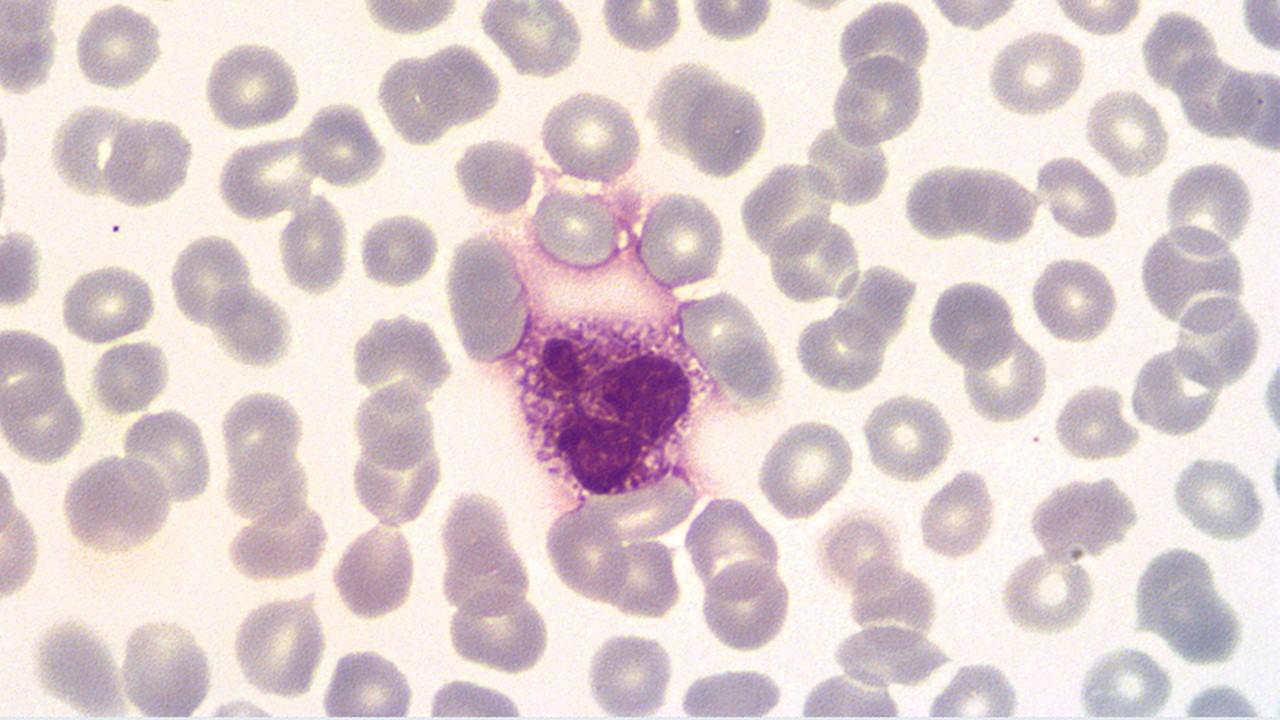Platelets: (0, 228, 43, 311)
RBC: (1139, 218, 1247, 332), (757, 416, 855, 522), (537, 88, 643, 186), (738, 159, 838, 261), (233, 592, 327, 700), (117, 614, 213, 718), (1164, 156, 1256, 258), (444, 586, 550, 674), (201, 39, 301, 131), (984, 28, 1086, 118), (637, 189, 726, 292), (828, 55, 926, 148), (1130, 342, 1224, 437), (766, 213, 863, 304), (925, 273, 1016, 370), (102, 112, 192, 209), (331, 521, 419, 620), (684, 77, 768, 180), (698, 559, 790, 653), (1169, 453, 1267, 541), (998, 550, 1098, 634), (862, 392, 952, 485), (58, 261, 157, 345), (582, 628, 676, 716), (169, 232, 252, 330), (71, 3, 162, 92), (1173, 294, 1259, 388), (1028, 255, 1118, 344), (794, 307, 886, 394), (278, 192, 352, 297), (1085, 87, 1171, 176), (916, 467, 996, 562), (417, 41, 502, 128), (378, 50, 455, 146), (454, 134, 538, 218), (1051, 381, 1137, 463), (1036, 154, 1116, 240), (900, 162, 988, 240), (90, 338, 170, 413), (674, 665, 786, 716), (0, 506, 41, 599), (0, 228, 41, 309), (1238, 1, 1280, 57)
WBC: (496, 294, 718, 498)
